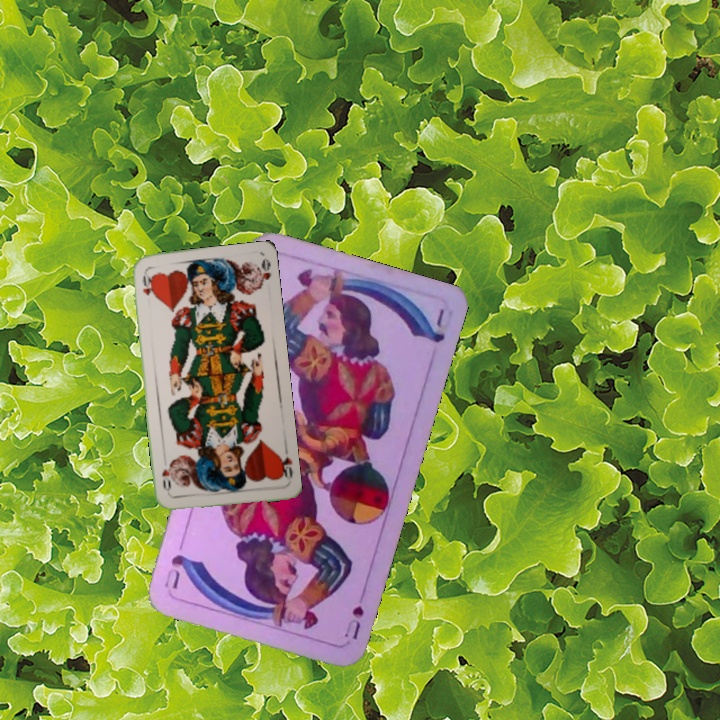HO: (274, 443, 295, 483), (139, 272, 156, 298)
SU: (340, 601, 367, 642)
